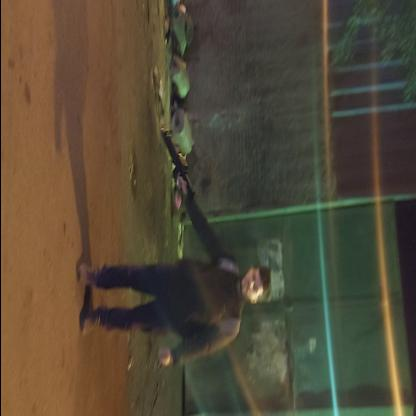long weapon: (136, 122, 204, 216)
